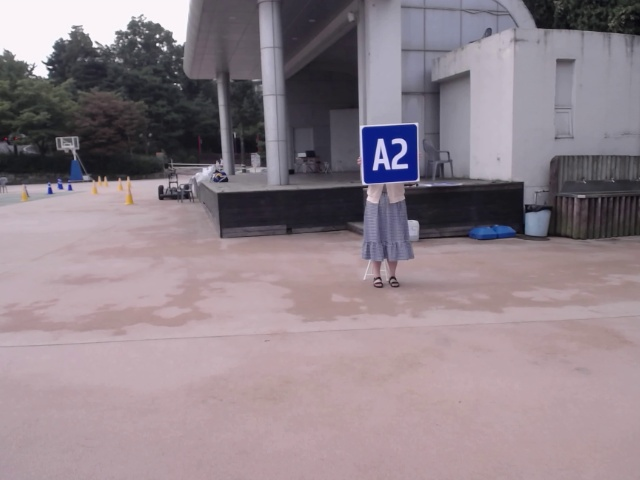delivery_a2: (361, 123, 419, 184)
